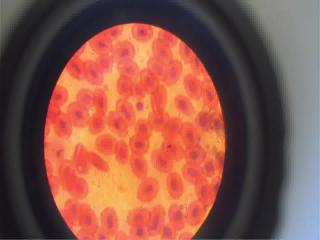cell: (115, 98, 135, 123), (95, 134, 118, 155), (82, 58, 102, 82), (151, 38, 174, 58), (132, 23, 159, 40), (136, 183, 162, 200), (132, 116, 152, 138), (134, 157, 154, 179), (101, 208, 119, 232), (202, 81, 219, 106), (50, 83, 70, 104), (83, 204, 98, 232), (69, 55, 85, 81), (108, 112, 126, 135), (185, 146, 210, 162), (139, 72, 161, 90), (125, 208, 155, 221), (114, 79, 138, 95), (168, 203, 184, 227), (130, 135, 150, 154), (182, 162, 201, 182), (112, 40, 134, 57), (118, 59, 140, 76), (66, 200, 83, 222), (189, 201, 206, 223), (194, 174, 208, 200), (92, 33, 109, 54), (75, 177, 92, 198), (60, 162, 76, 184), (93, 88, 107, 113), (71, 108, 90, 126), (55, 117, 73, 136), (166, 64, 185, 82), (151, 88, 168, 108), (168, 175, 182, 199), (155, 152, 171, 173), (152, 206, 166, 230), (89, 112, 105, 132), (185, 75, 198, 97), (79, 87, 93, 107), (118, 140, 129, 165), (177, 96, 194, 112), (182, 125, 196, 144), (196, 110, 210, 129), (150, 60, 167, 75), (202, 159, 215, 176), (134, 226, 150, 239)
